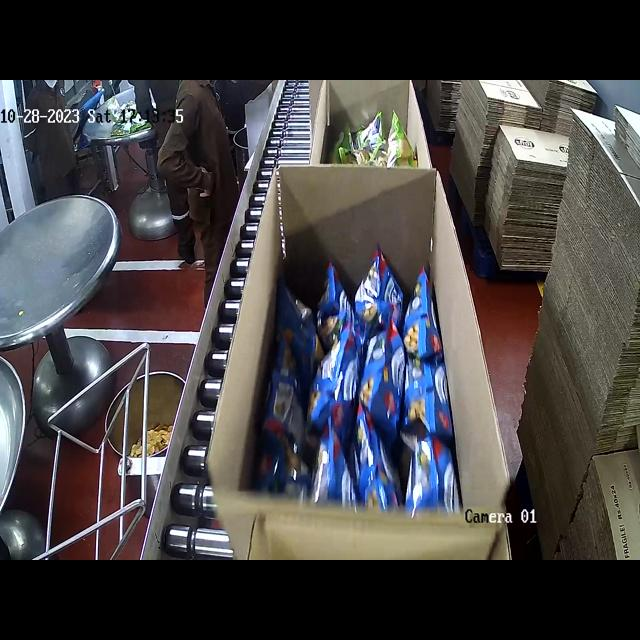paprika: (283, 259, 452, 539)
yogurt: (335, 120, 419, 167)
